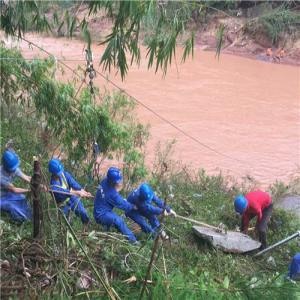blue: (2, 152, 20, 175), (48, 159, 64, 180), (234, 195, 249, 217), (107, 168, 123, 188), (141, 183, 154, 204)
